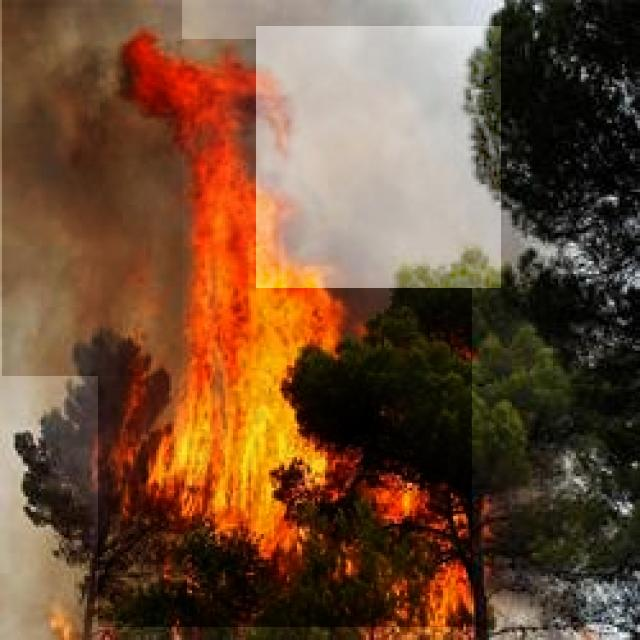Fire: (98, 40, 472, 628)
Smoke: (2, 1, 182, 377), (256, 26, 501, 288)
